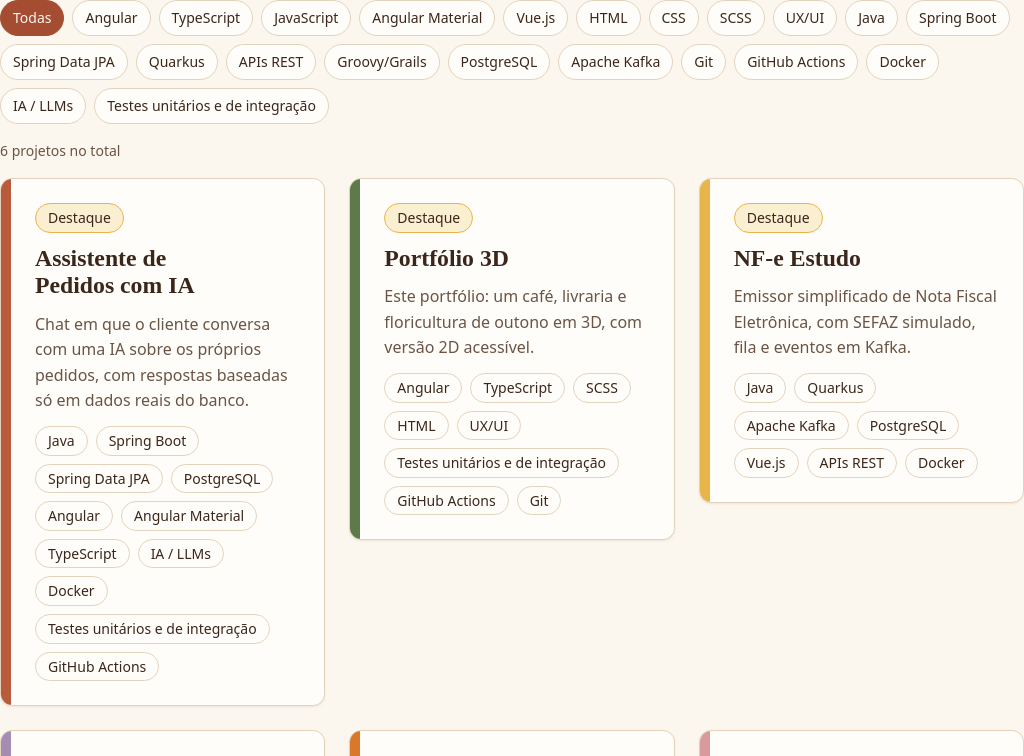
ListaProjetosComponent › filtra pela tecnologia escolhida e atualiza o estado compartilhado
The width and height of the screenshot is (1024, 756).
Click the button "Apache Kafka" at (616, 62), box [558, 44, 673, 80]
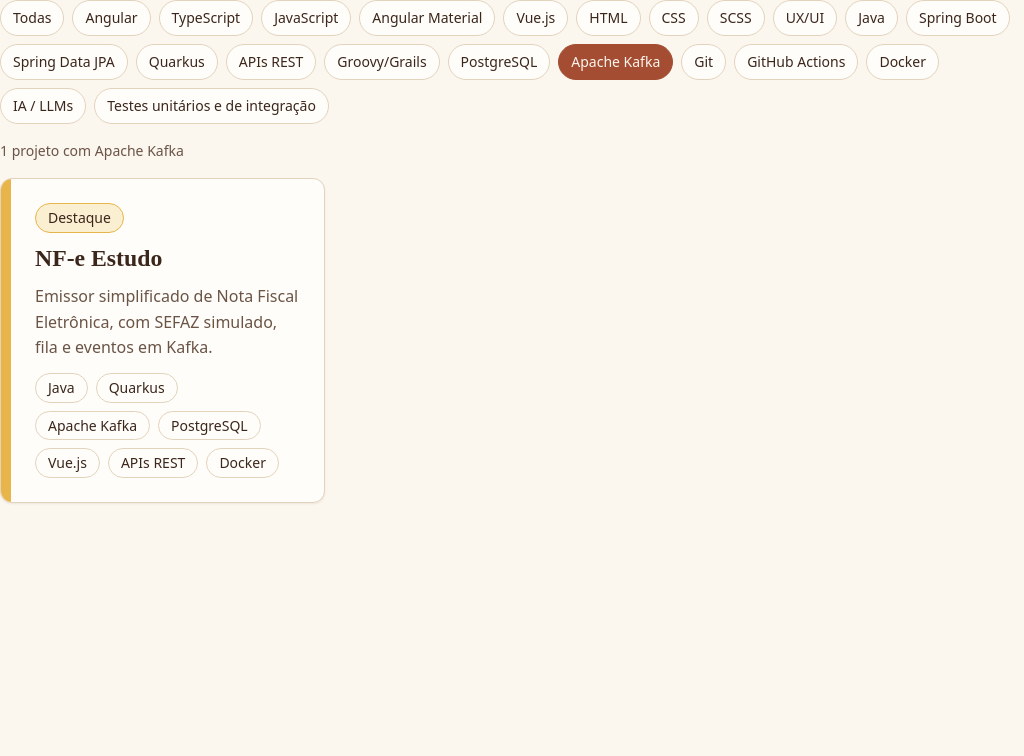
Expected: the text with class "resumo" reads "1 projeto com Apache Kafka", [0, 141, 184, 160]
